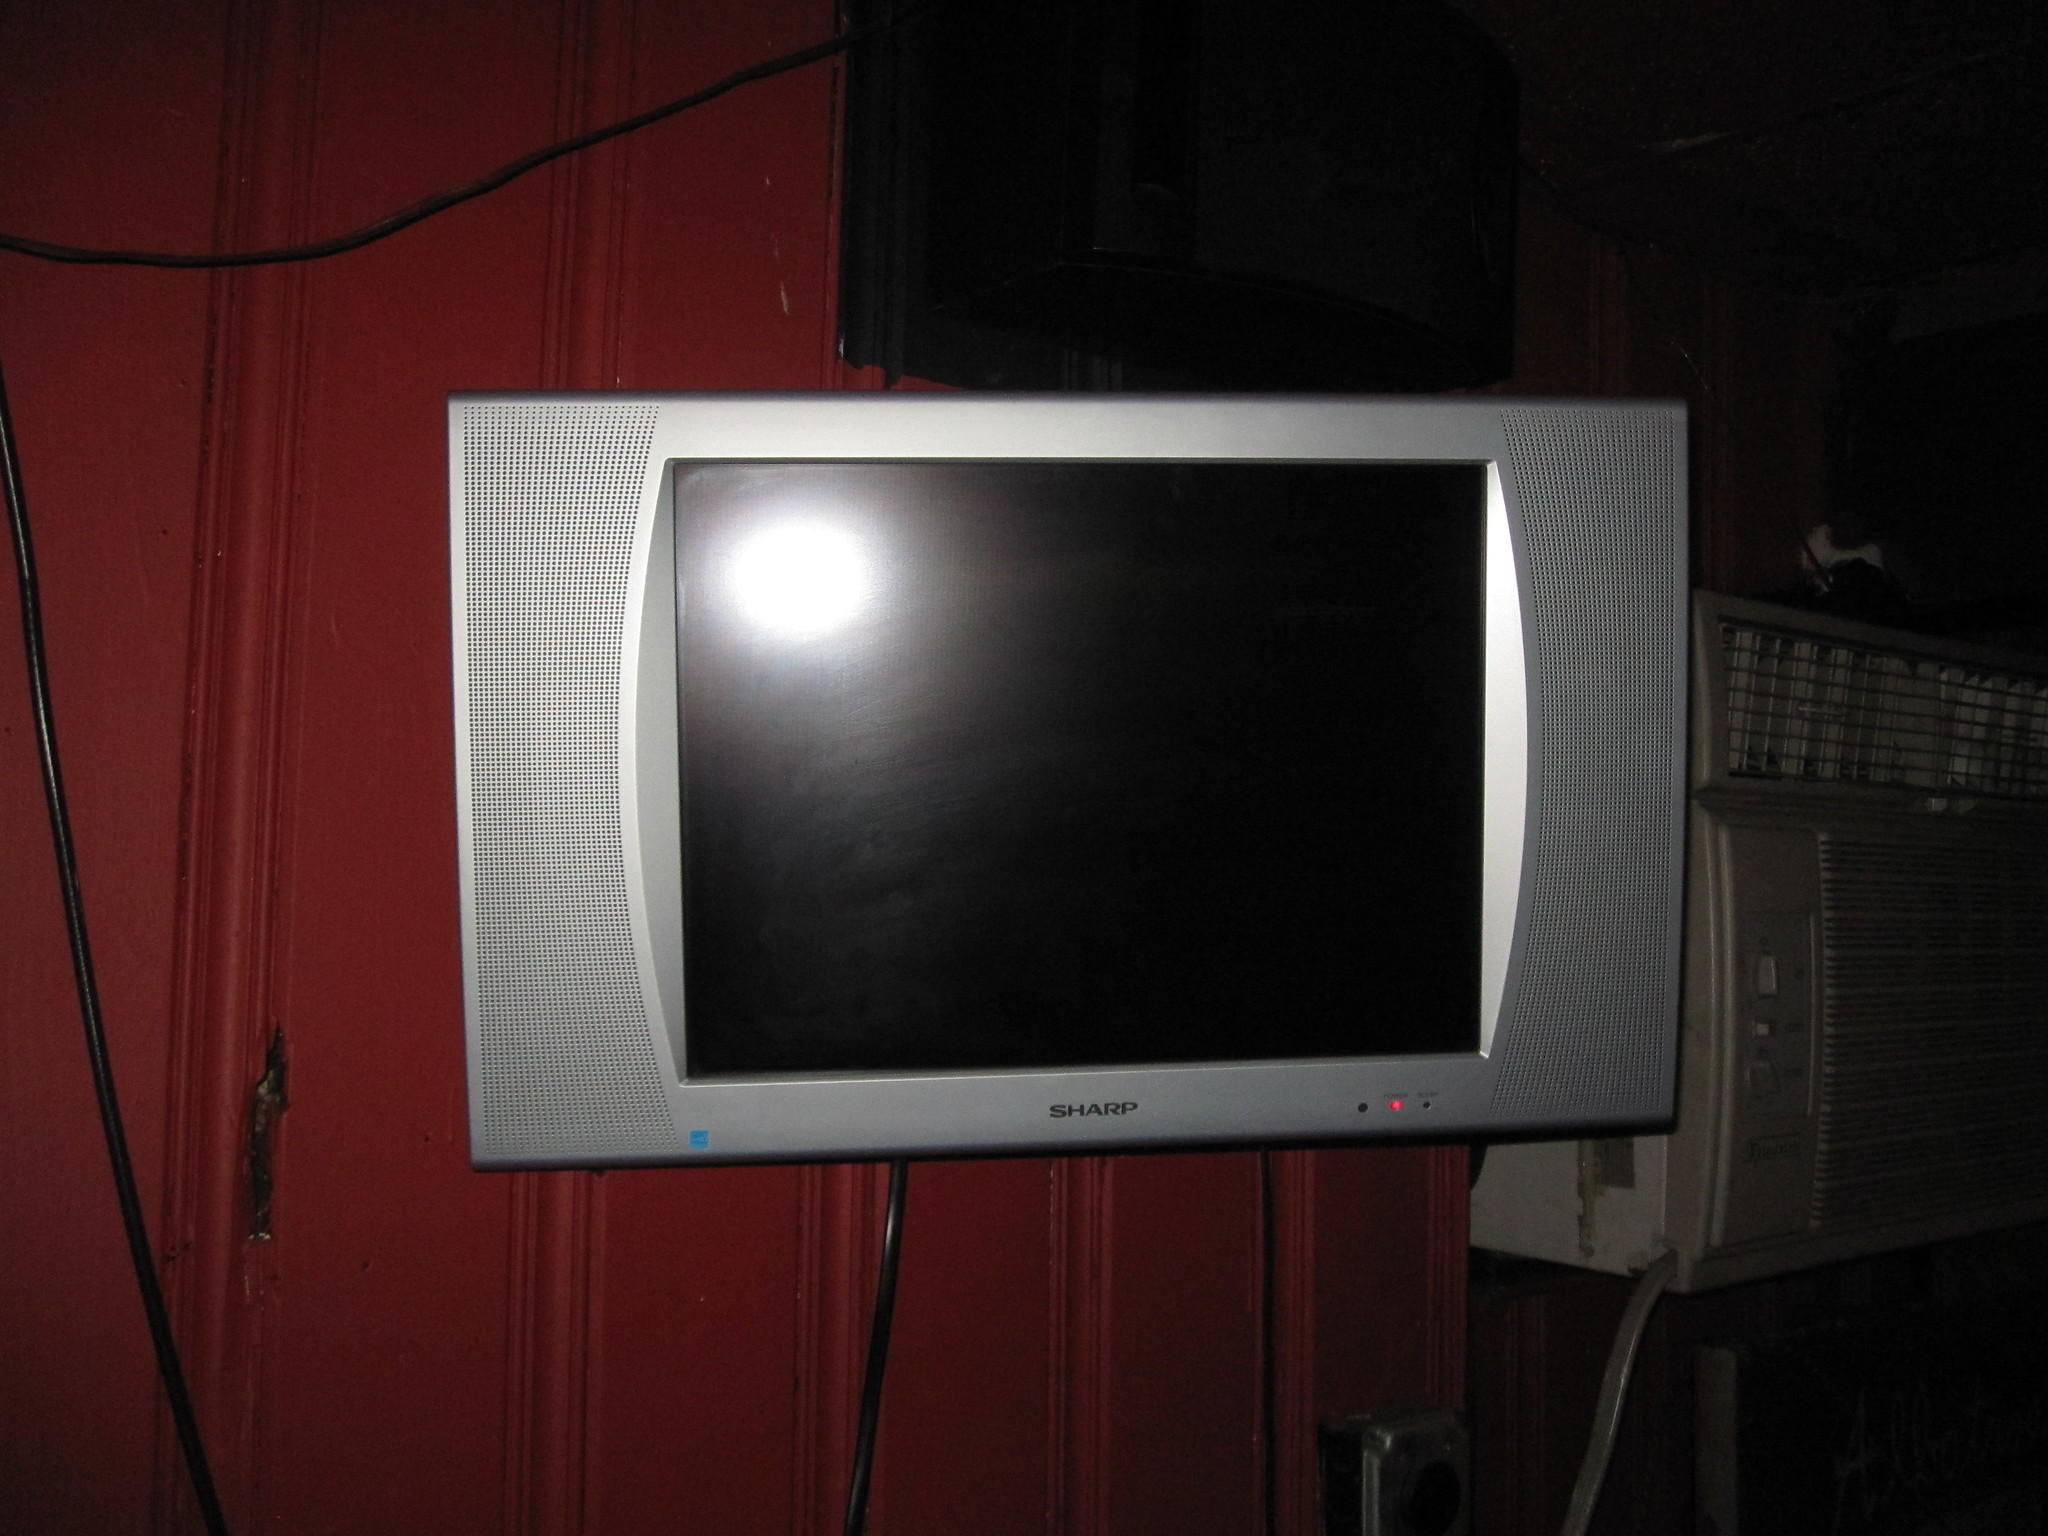tv monitor: (427, 365, 1680, 1155)
